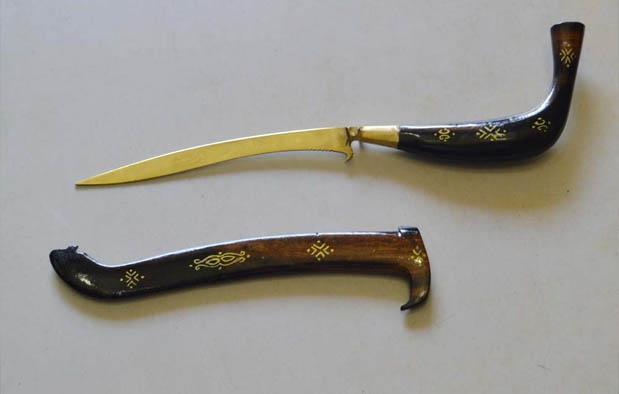facao: (77, 126, 399, 186)
